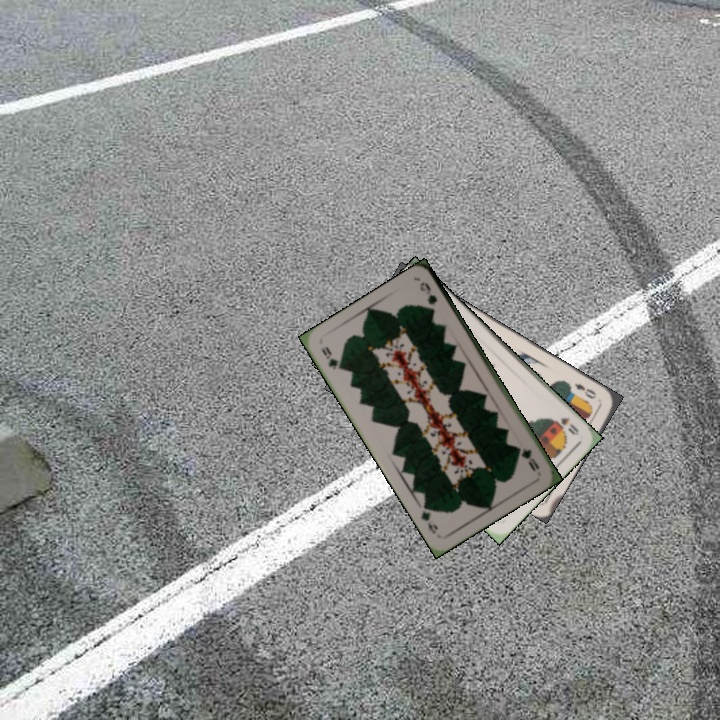EO: (570, 379, 599, 402)
G9: (317, 343, 346, 374), (514, 443, 542, 474)
SO: (556, 413, 581, 438)
